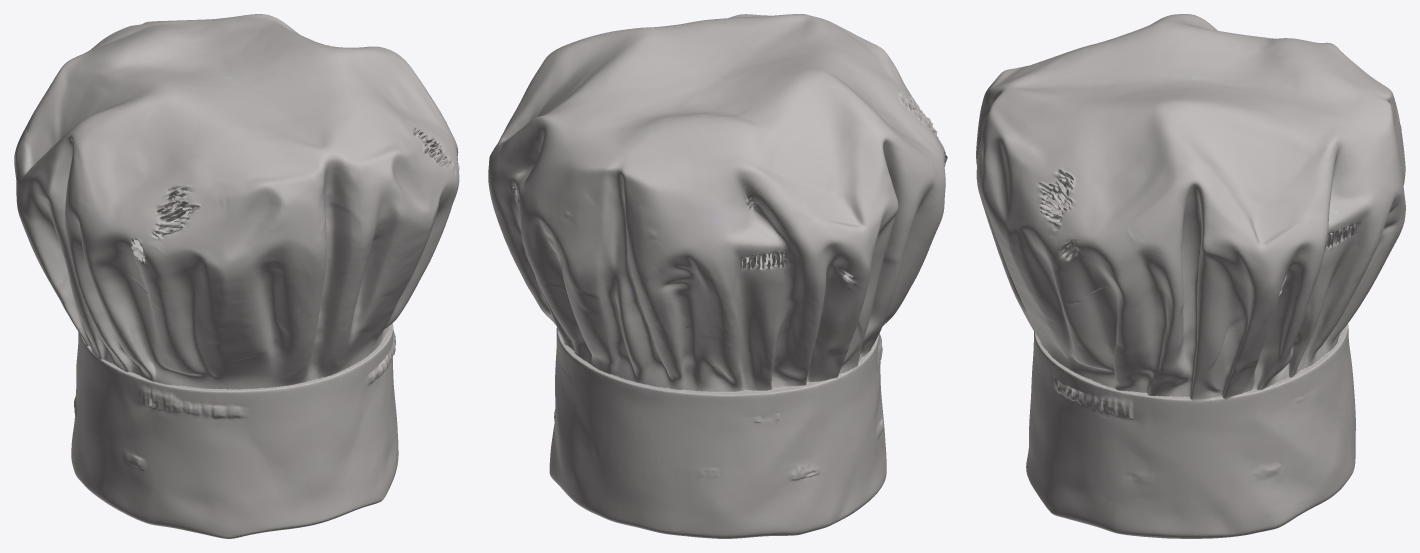
Rendered from chef+hat+3d+model.fbx.
The picture shows the model from 3 angles, left to right: view 1: azimuth 30°, elevation 25°; view 2: azimuth 150°, elevation 25°; view 3: azimuth 270°, elevation 25°; orthographic projection. The views are drawn at different scales.
Visible parts, largest first — view 1: tripo_node_ea593208; view 2: tripo_node_ea593208; view 3: tripo_node_ea593208.
Boxes of the visible parts, x1,y1,x2,y2 form: tripo_node_ea593208: (14, 14, 459, 538); tripo_node_ea593208: (488, 14, 947, 538); tripo_node_ea593208: (976, 14, 1405, 538).
Size of the model in its own units: 0.9463 by 1 by 0.9434.
1 material, 1 textured.
